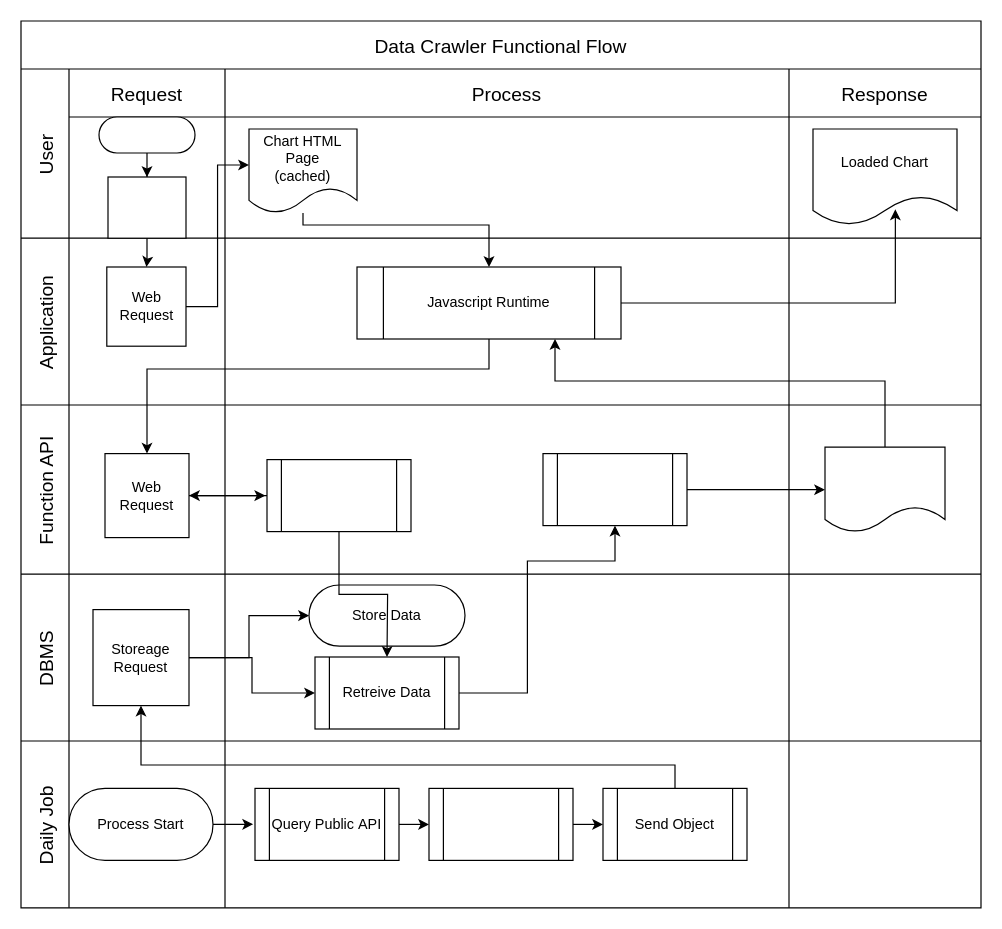
Some shapes in this 1002 by 929 pixel diagram are drawn without their labels. Here are the shapes that lost their labels. From the top down, the centre of each, then its label:
pixel 146 134: Navigate
pixel 146 207: Chart Data
pixel 338 495: Fetch Data
pixel 614 489: Data Format/Validation
pixel 884 489: Requested Object
pixel 500 823: Generate Document Object
